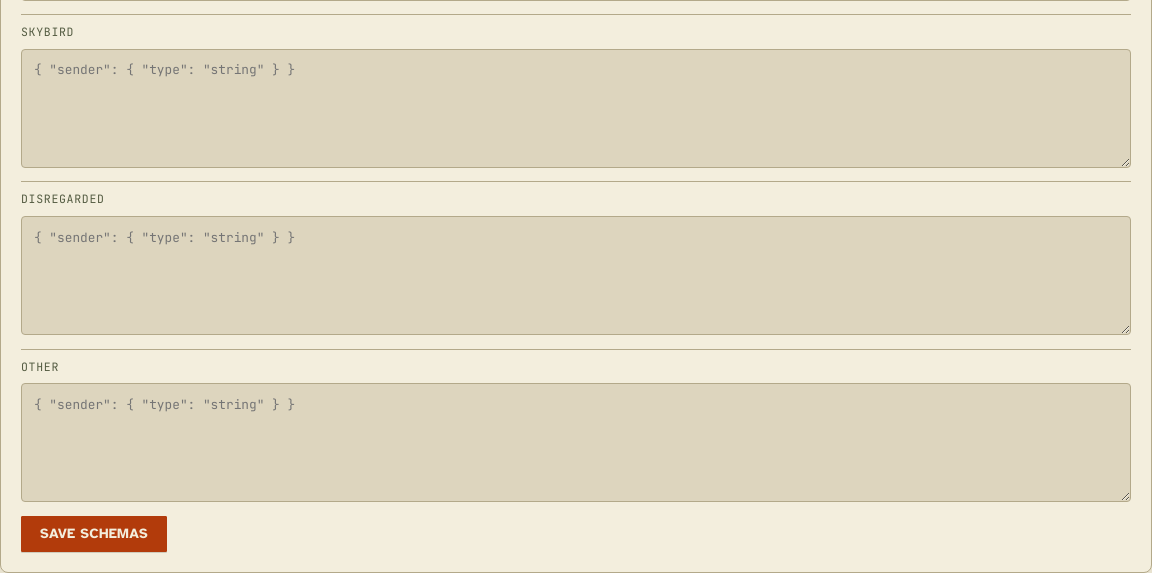
Test case: LinguisticSchemasEditor › surfaces a save error
(page scrolled)
What coordinates should you click on to do the following:
click the button "Save schemas"
I would click on:
 (94, 534)
Its box is [21,516,167,552].
(page scrolled)
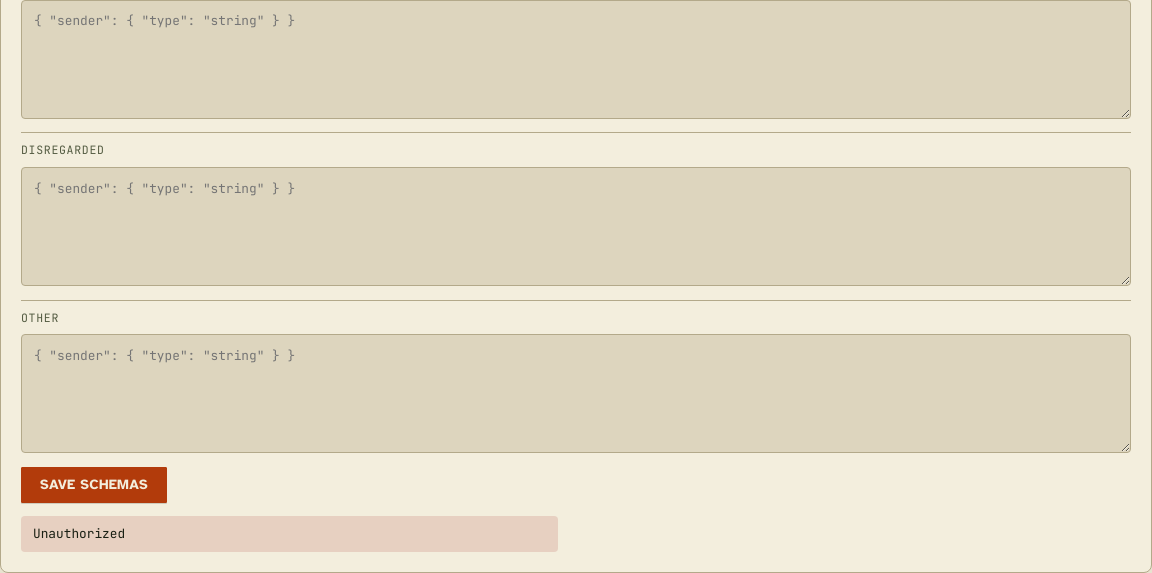
Expected: the message reads "Unauthorized", [33,525,125,542]
